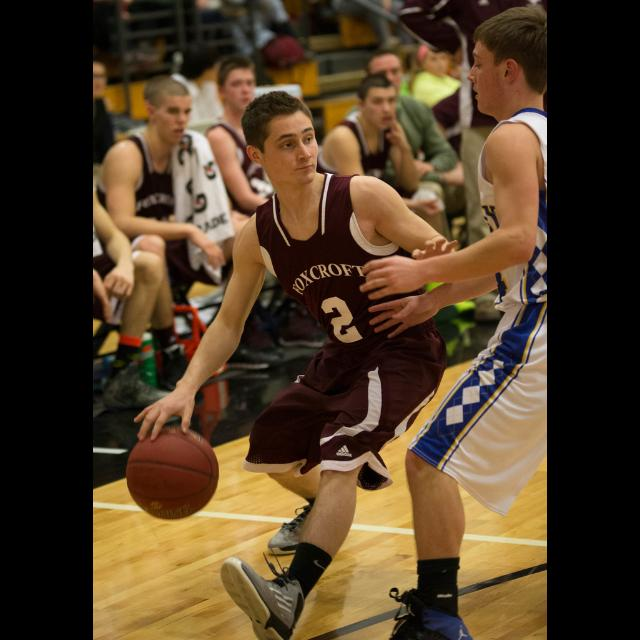Football: (124, 420, 220, 520)
